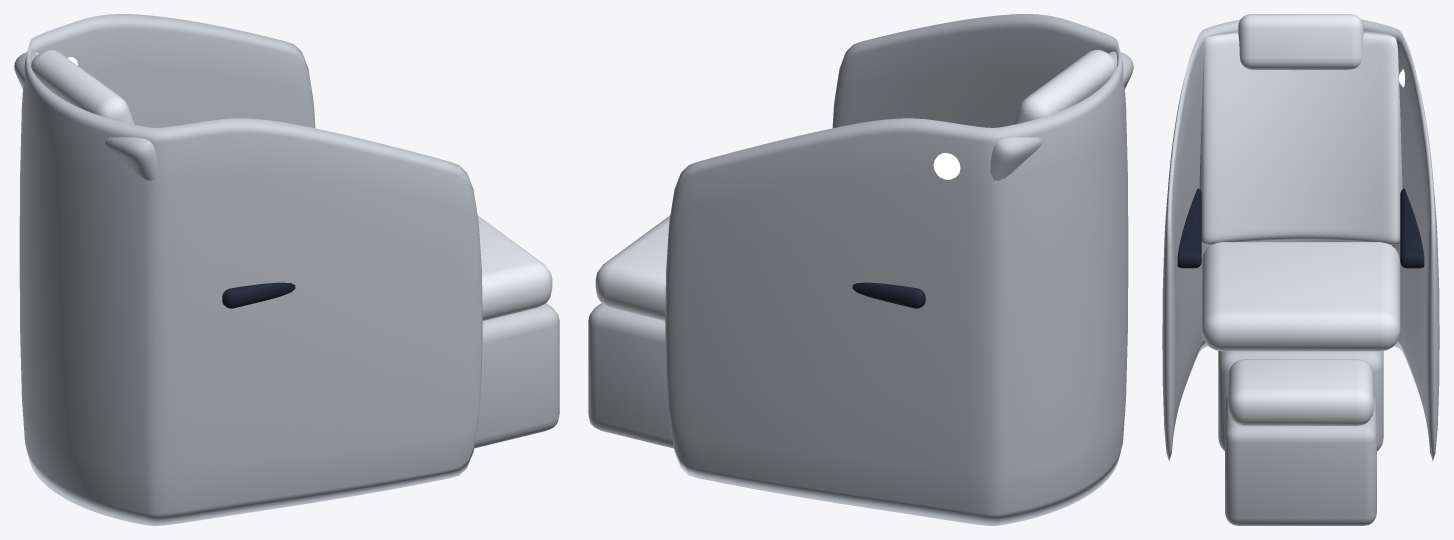
File: seat_business.glb
3 views of the same model, side by side, from view 1: azimuth 30°, elevation 25°; view 2: azimuth 150°, elevation 25°; view 3: azimuth 270°, elevation 25° (orthographic). The views are drawn at different scales.
Visible parts, largest first — view 1: SeatBusiness; view 2: SeatBusiness; view 3: SeatBusiness.
Boxes of the visible parts, bbox=[...] form: SeatBusiness: bbox=[14, 14, 559, 525]; SeatBusiness: bbox=[588, 14, 1133, 525]; SeatBusiness: bbox=[1162, 14, 1439, 525].
Bounding box in the file's own units: 1.32 × 1.15 × 0.8384.
